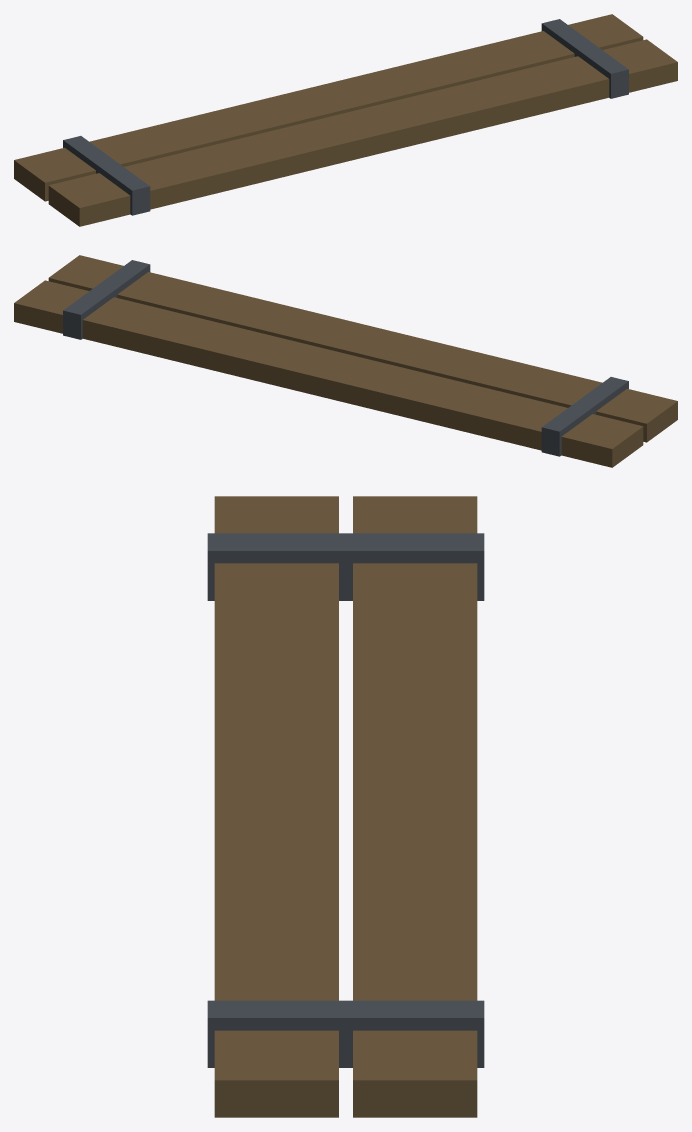
File: prop_plank.fbx
3 views of the same model, one above another, from view 1: azimuth 30°, elevation 25°; view 2: azimuth 150°, elevation 25°; view 3: azimuth 270°, elevation 25° (orthographic). The views are drawn at different scales.
Parts seen in each view (by area): view 1: prop_plank; view 2: prop_plank; view 3: prop_plank.
Part boxes in pixels (x1=…): prop_plank: x1=14, y1=14, x2=677, y2=226; prop_plank: x1=14, y1=255, x2=677, y2=467; prop_plank: x1=207, y1=496, x2=484, y2=1117.
Size of the model in its own units: 1000 by 40 by 200.
